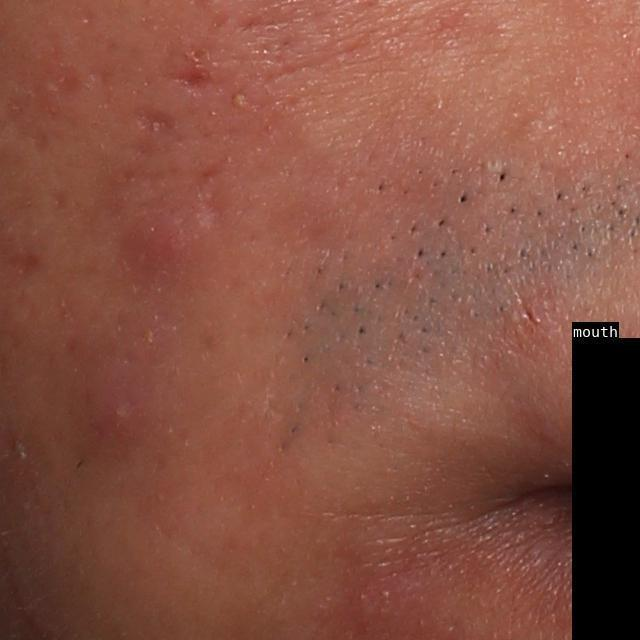atrophic_scar: (130, 101, 173, 138), (171, 65, 214, 92)
papule: (69, 361, 162, 458), (110, 194, 215, 270)
